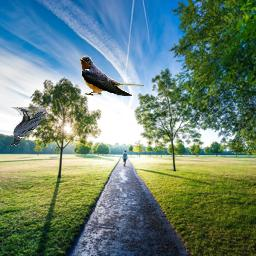Crow: (10, 108, 47, 147)
Swallow: (80, 54, 145, 96)
